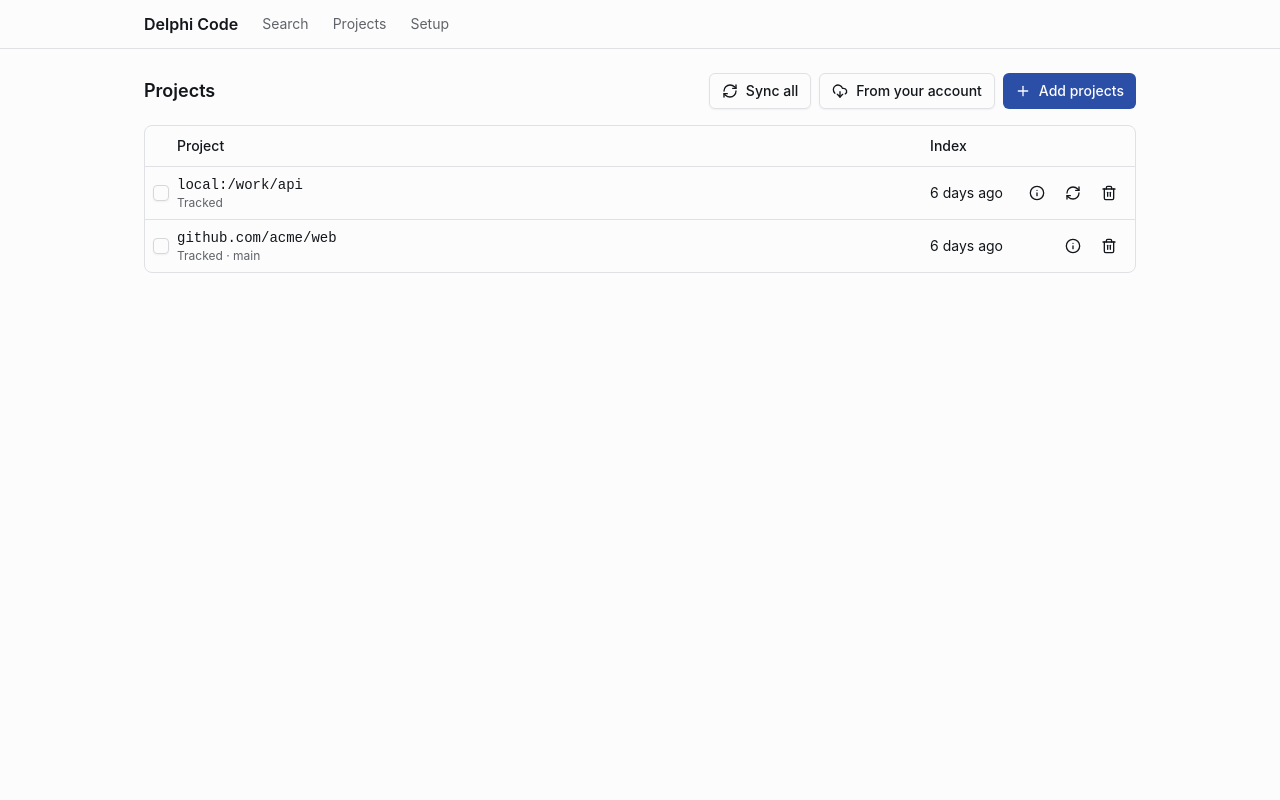
Test case: the projects page › removes a project after confirmation, keeping its index when asked
Click the button named "Remove github.com/acme/web": click(1109, 246) [1091,228,1127,264]
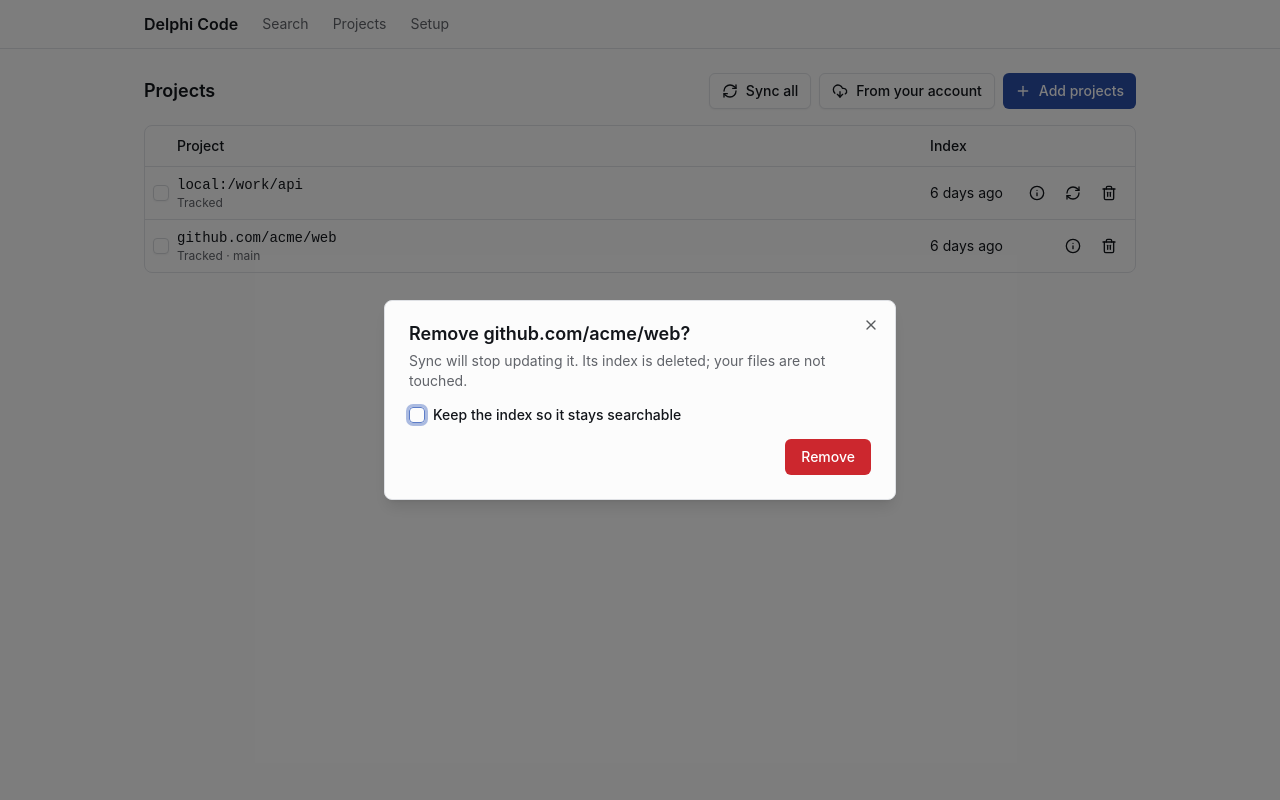
Click the checkbox named "Keep the index so it stays searchable": click(417, 415) [409,407,425,423]
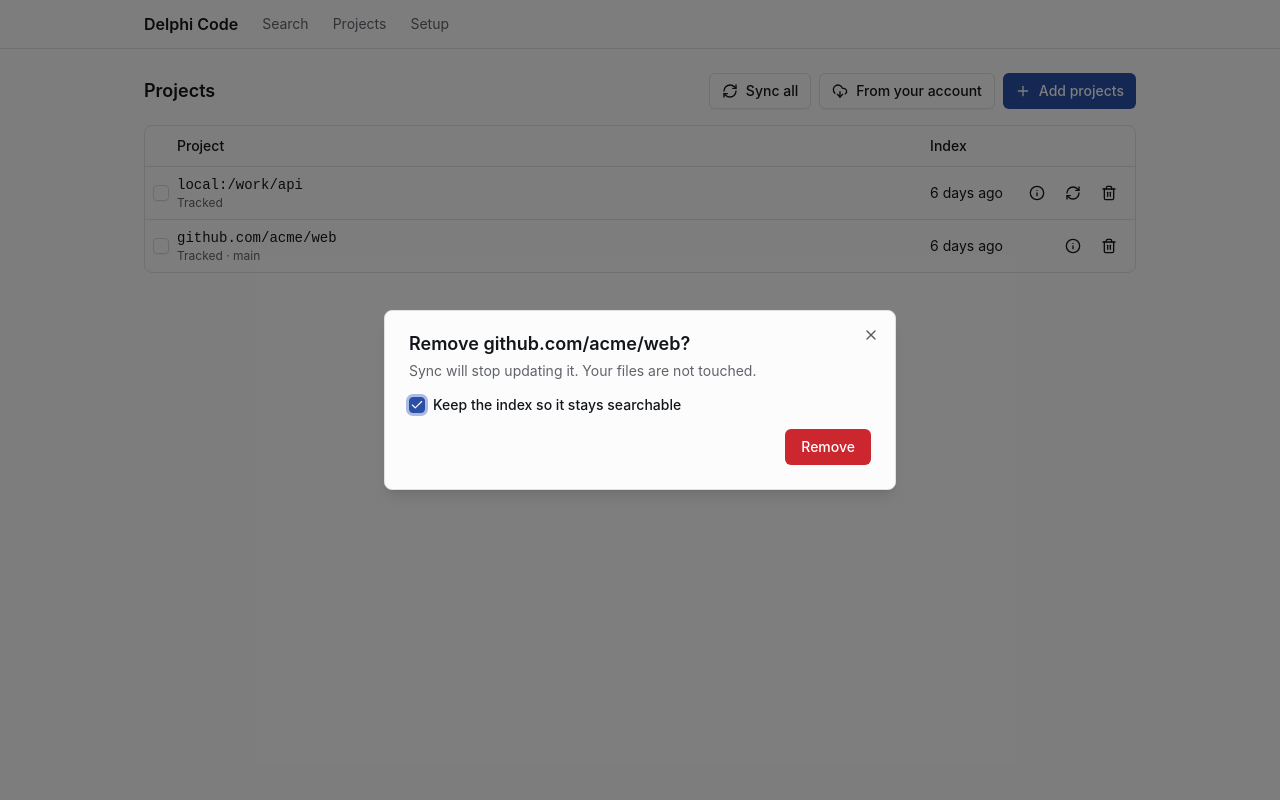
Click the button "Remove": click(828, 447) [785,429,871,465]
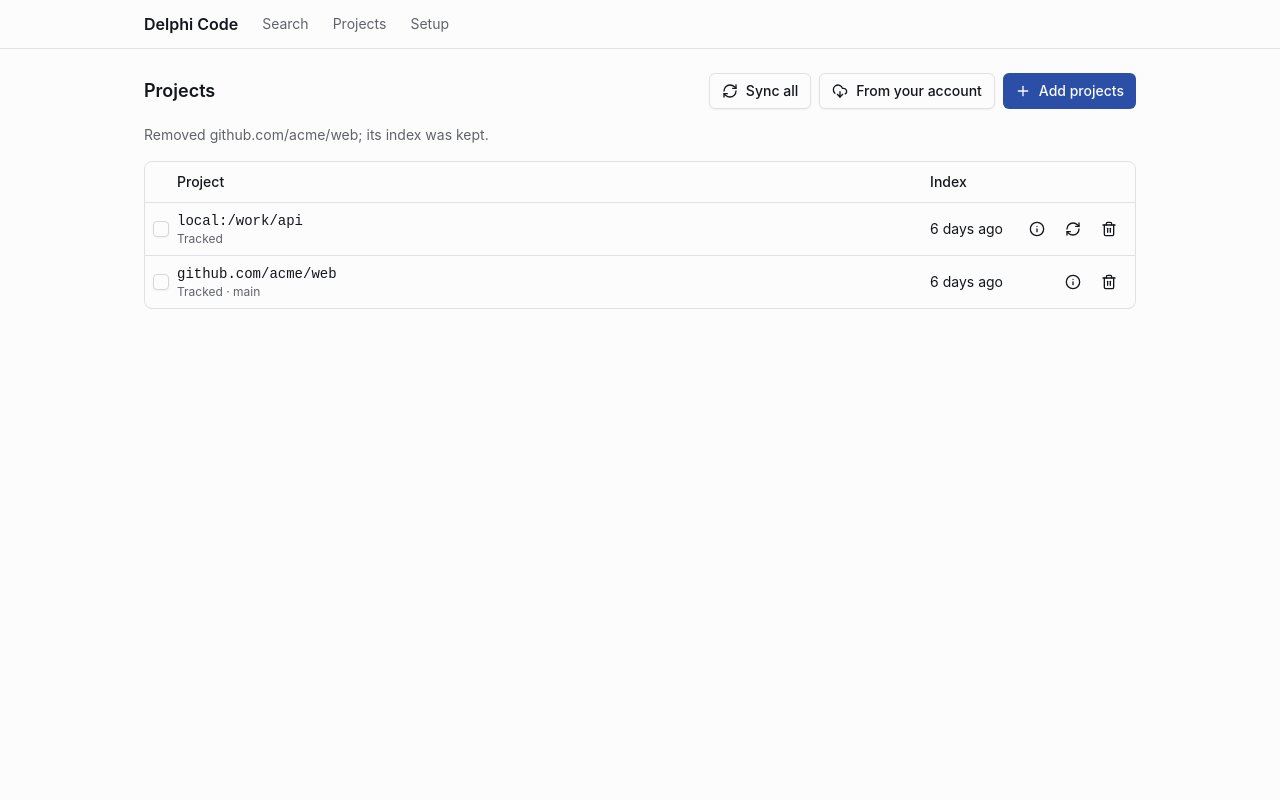
Expected: the text "github.com/acme/web" is shown, [177,266,337,282]
Expected: the text "Removed github.com/acme/web; its index was kept." is shown, [144,126,489,143]
